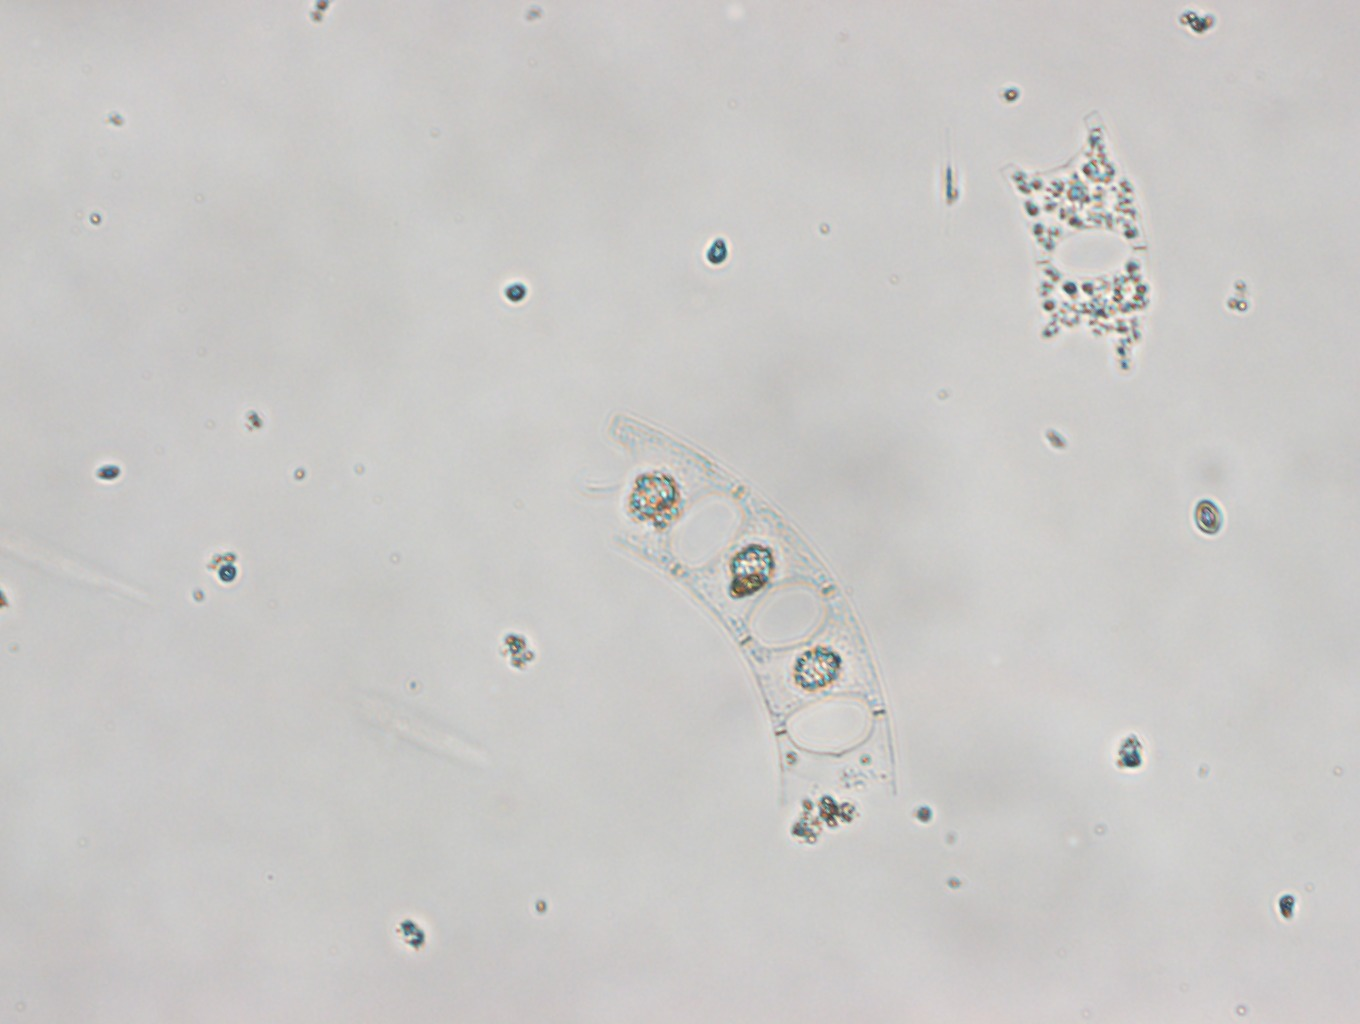eucampia: (574, 406, 902, 855), (998, 114, 1164, 380)
